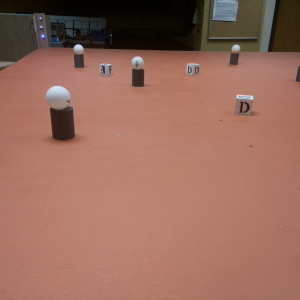blockD: (233, 93, 254, 113), (186, 63, 200, 76)
blockF: (99, 64, 114, 76)
corner: (32, 14, 50, 46)
obstacle: (47, 86, 77, 140), (131, 57, 144, 88), (72, 45, 85, 69), (230, 44, 240, 65)
